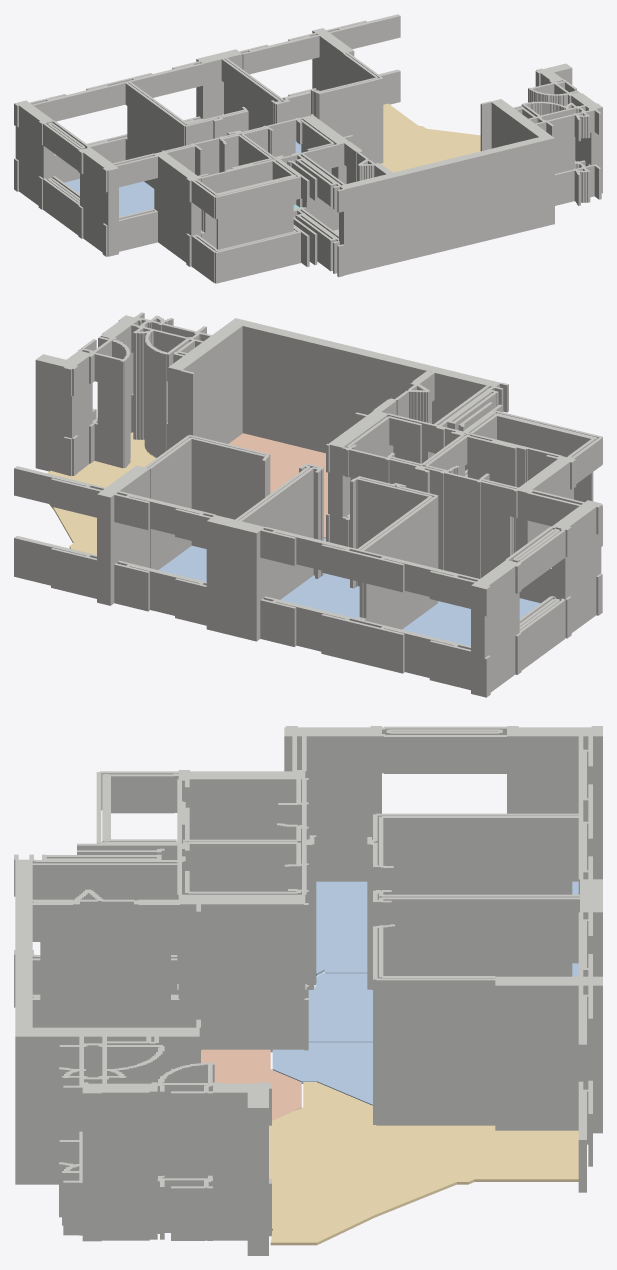
The picture shows the model from 3 angles, top to bottom: view 1: azimuth 30°, elevation 25°; view 2: azimuth 150°, elevation 25°; view 3: azimuth 270°, elevation 25°; orthographic projection. The views are drawn at different scales.
Visible parts, largest first — view 1: walls, room:living:6, room:bedroom:0; view 2: walls, room:living:6, room:kitchen:5, room:bedroom:7, room:bedroom:0, room:bedroom:2; view 3: walls, room:living:6, room:bedroom:0, room:bedroom:7, room:bedroom:2, room:kitchen:5.
Boxes of the visible parts, x1=… form: walls: x1=14, y1=14, x2=602, y2=283; room:living:6: x1=380, y1=103, x2=480, y2=172; room:bedroom:0: x1=64, y1=179, x2=154, y2=216; walls: x1=14, y1=312, x2=602, y2=697; room:living:6: x1=47, y1=432, x2=156, y2=554; room:kitchen:5: x1=228, y1=433, x2=327, y2=538; room:bedroom:7: x1=280, y1=573, x2=359, y2=618; room:bedroom:0: x1=402, y1=598, x2=540, y2=646; room:bedroom:2: x1=158, y1=538, x2=325, y2=581; walls: x1=14, y1=726, x2=602, y2=1255; room:living:6: x1=269, y1=1082, x2=578, y2=1245; room:bedroom:0: x1=316, y1=881, x2=578, y2=975; room:bedroom:7: x1=308, y1=963, x2=578, y2=1042; room:bedroom:2: x1=272, y1=1042, x2=372, y2=1105; room:kitchen:5: x1=201, y1=1049, x2=301, y2=1120.
Size of the model in its own units: 15.51 by 2.8 by 10.1.
